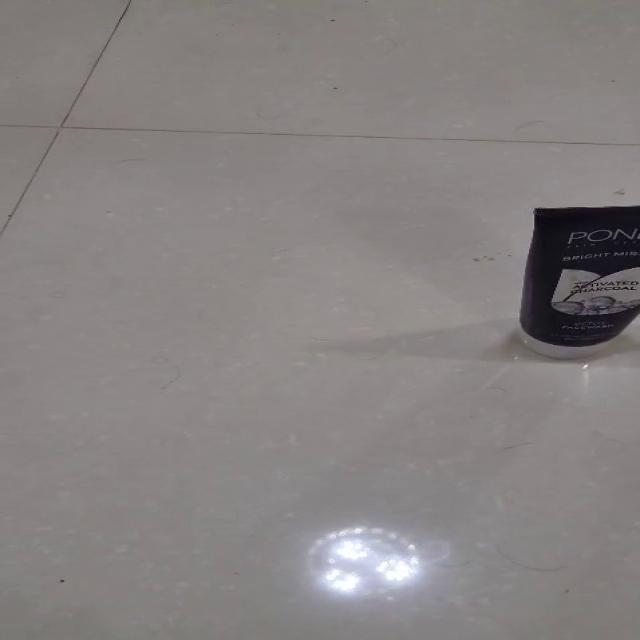plastic: (516, 204, 638, 358)
